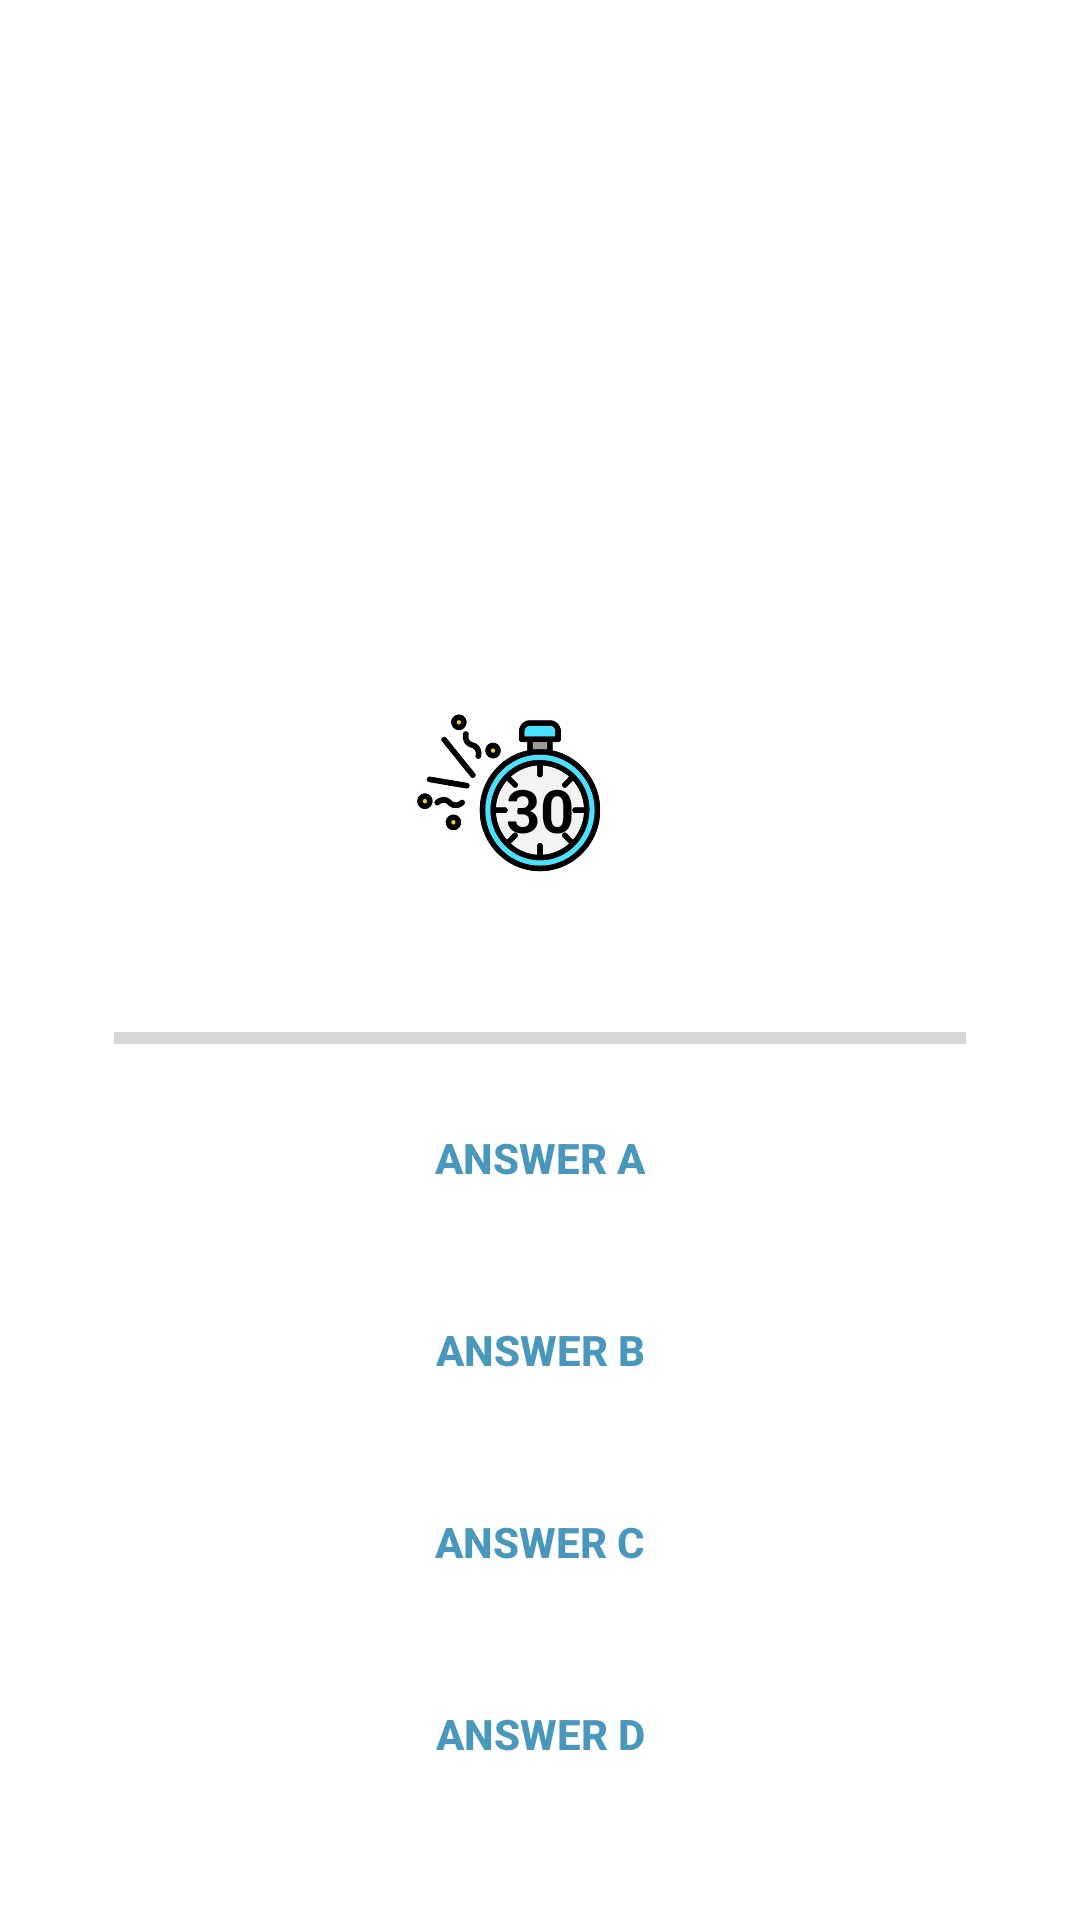

Point at icon controls on the screen. Image size 1080*1920, points as (x=x, y=y).
countdown: (x=508, y=793)
